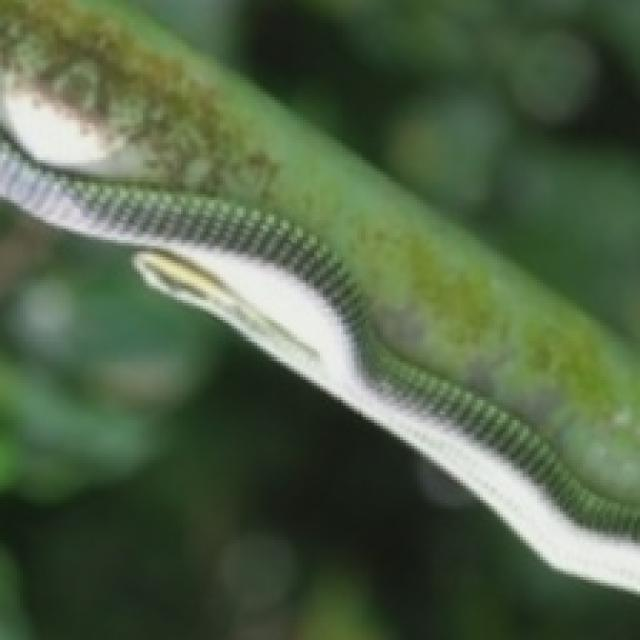paradise tree snake: (3, 3, 629, 469), (0, 203, 637, 637), (286, 0, 637, 346)
